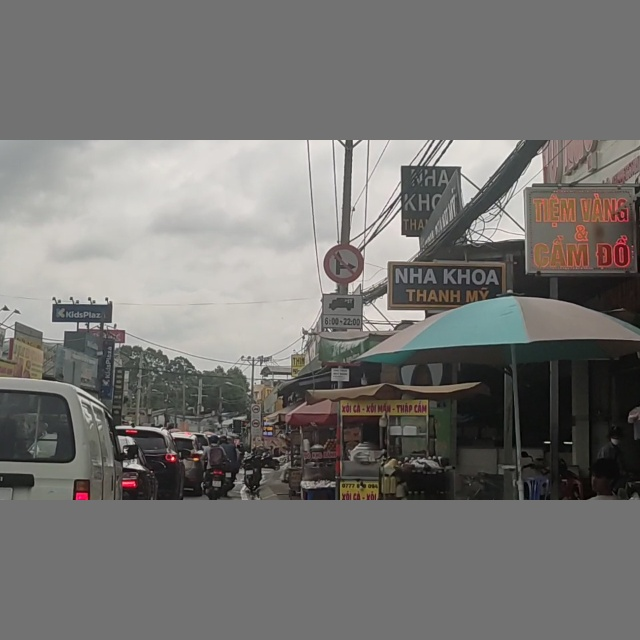P.139: (324, 245, 363, 283)
S.505a*Xe tai: (324, 294, 361, 327)
